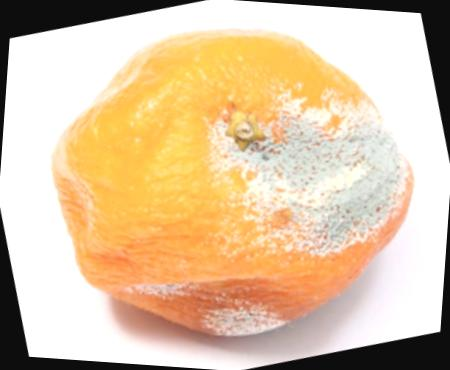Orange Rotten: (33, 8, 437, 368)
